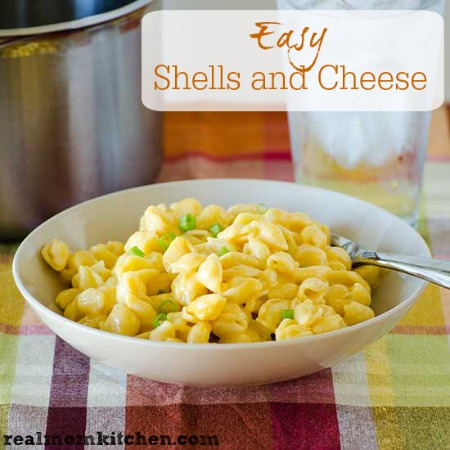macncheese: (40, 200, 376, 347)
